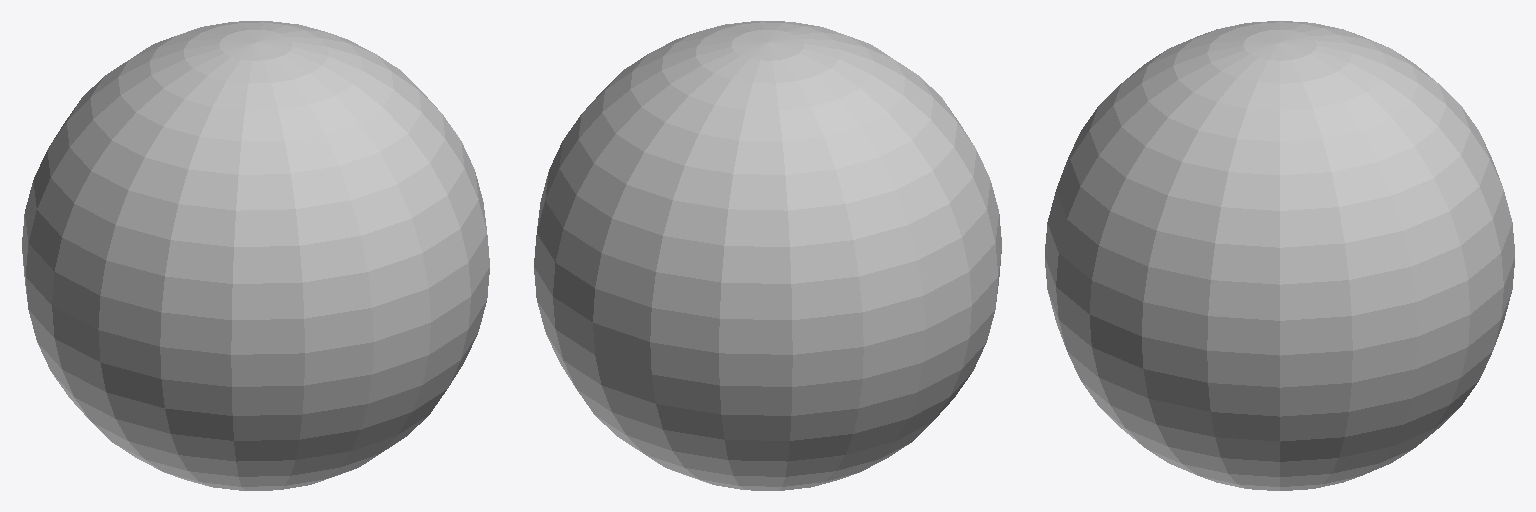
Rendered from spherewood.obj.
3 views of the same model, side by side, from view 1: azimuth 30°, elevation 25°; view 2: azimuth 150°, elevation 25°; view 3: azimuth 270°, elevation 25° (orthographic).
Parts seen in each view (by area): view 1: pSphere1; view 2: pSphere1; view 3: pSphere1.
Part boxes in pixels (x1,y1,x2,y2): pSphere1: (22, 21, 489, 490); pSphere1: (534, 21, 1001, 490); pSphere1: (1045, 21, 1514, 490).
Bounding box in the file's own units: 3.75 × 3.75 × 3.75.